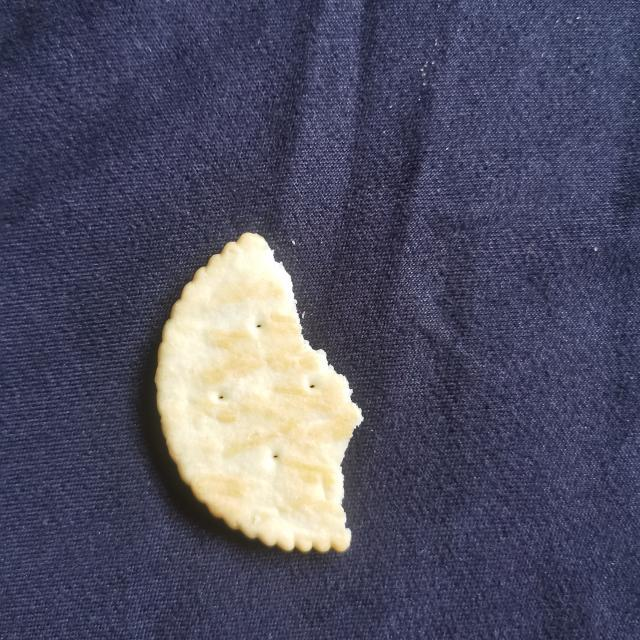Broken: (152, 231, 364, 554)
